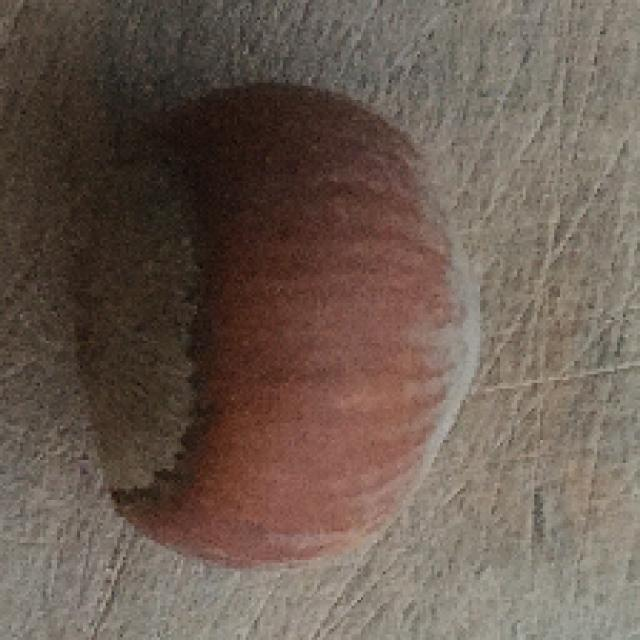qualityHazelnut: (66, 82, 482, 562)
